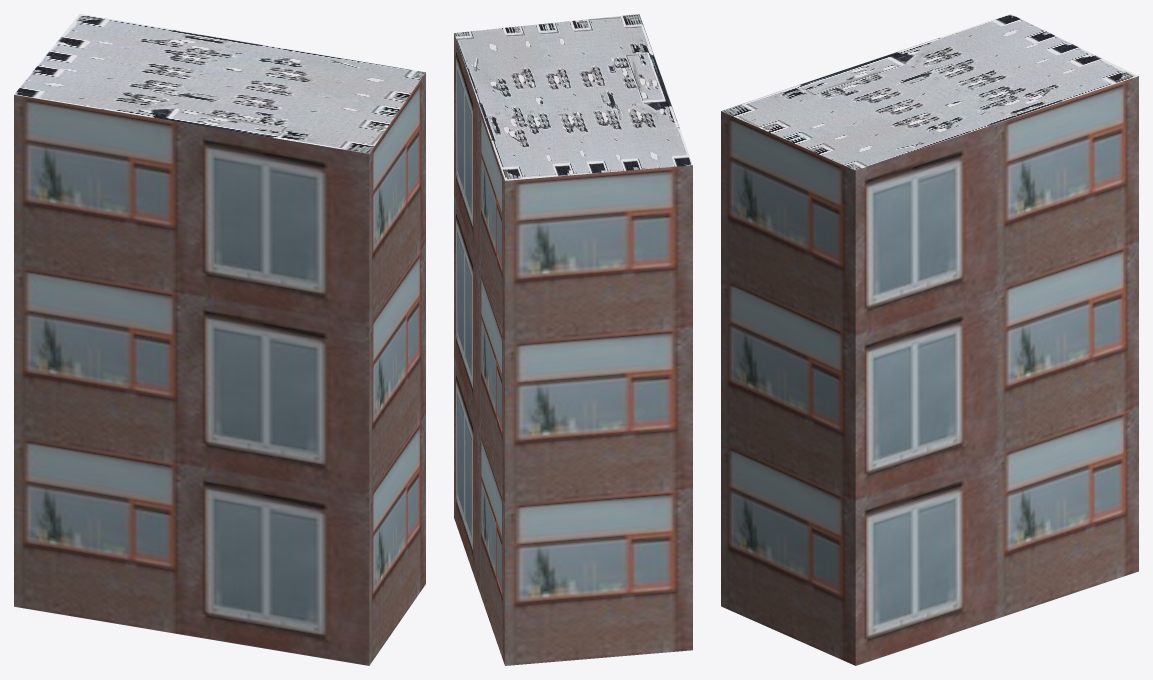
The model's file is ResTex__4752.fbx.
The picture shows the model from 3 angles, left to right: view 1: azimuth 30°, elevation 25°; view 2: azimuth 150°, elevation 25°; view 3: azimuth 270°, elevation 25°; orthographic projection. The views are drawn at different scales.
Parts seen in each view (by area): view 1: CityEngineMaterial_19_m, CityEngineMaterial_15_m; view 2: CityEngineMaterial_19_m, CityEngineMaterial_15_m; view 3: CityEngineMaterial_19_m, CityEngineMaterial_15_m.
Part boxes in pixels (<box>): CityEngineMaterial_19_m: <box>14,72,425,665</box>; CityEngineMaterial_15_m: <box>14,14,425,153</box>; CityEngineMaterial_19_m: <box>454,33,692,665</box>; CityEngineMaterial_15_m: <box>454,14,692,180</box>; CityEngineMaterial_19_m: <box>721,76,1138,665</box>; CityEngineMaterial_15_m: <box>721,14,1138,170</box>.
Size of the model in its own units: 6.1 by 9 by 6.88.
2 materials, 2 textured.
